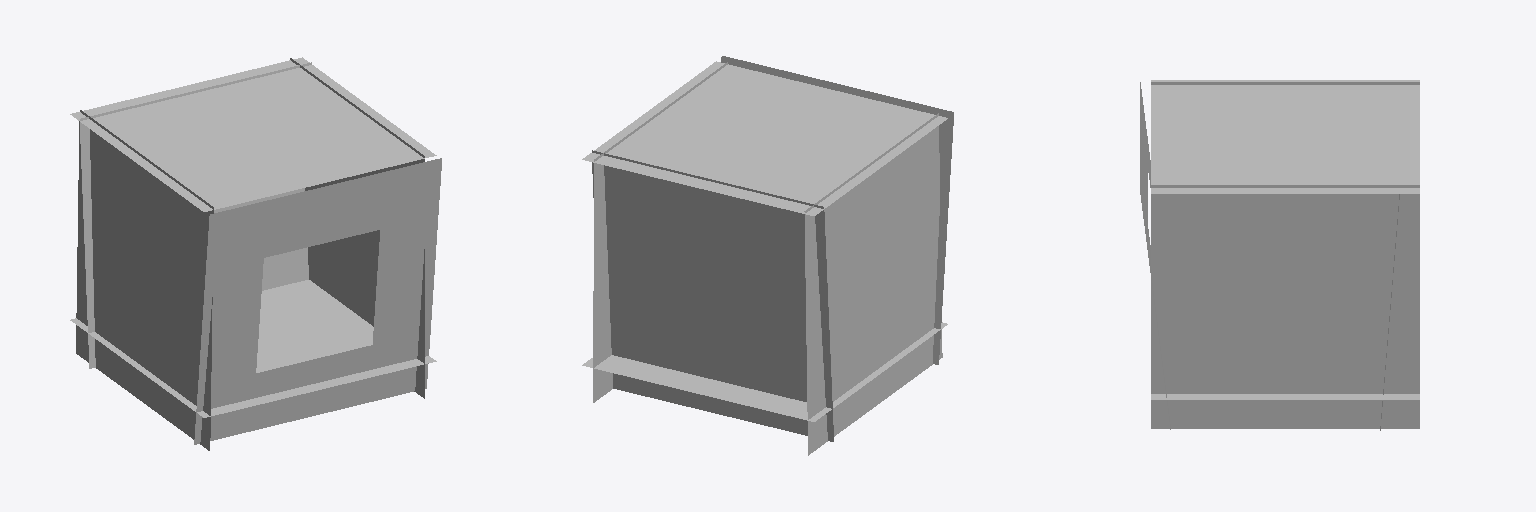
File: cud.obj
3 renders of one model, left to right at view 1: azimuth 30°, elevation 25°; view 2: azimuth 150°, elevation 25°; view 3: azimuth 270°, elevation 25°, orthographic.
Parts seen in each view (by area): view 1: Plane.005, Plane.001, Plane.003, Plane, Plane.002, Plane.004; view 2: Plane.004, Plane.001, Plane.003, Plane, Plane.005, Plane.002; view 3: Plane.002, Plane.001, Plane, Plane.005, Plane.003.
Part boxes in pixels (x1,y1,x2,y2): Plane.005: (194,158,441,444); Plane.001: (70,57,436,211); Plane.003: (76,110,213,450); Plane: (70,280,436,417); Plane.002: (290,58,424,398); Plane.004: (80,62,311,368); Plane.004: (592,150,833,441); Plane.001: (582,61,947,215); Plane.003: (804,113,942,455); Plane: (582,322,947,421); Plane.005: (721,56,953,364); Plane.002: (593,62,727,402); Plane.002: (1151,185,1419,428); Plane.001: (1151,80,1419,193); Plane: (1151,394,1419,399); Plane.005: (1140,82,1170,429); Plane.003: (1151,82,1419,84).
Size of the model in its own units: 2 by 2 by 2.08.